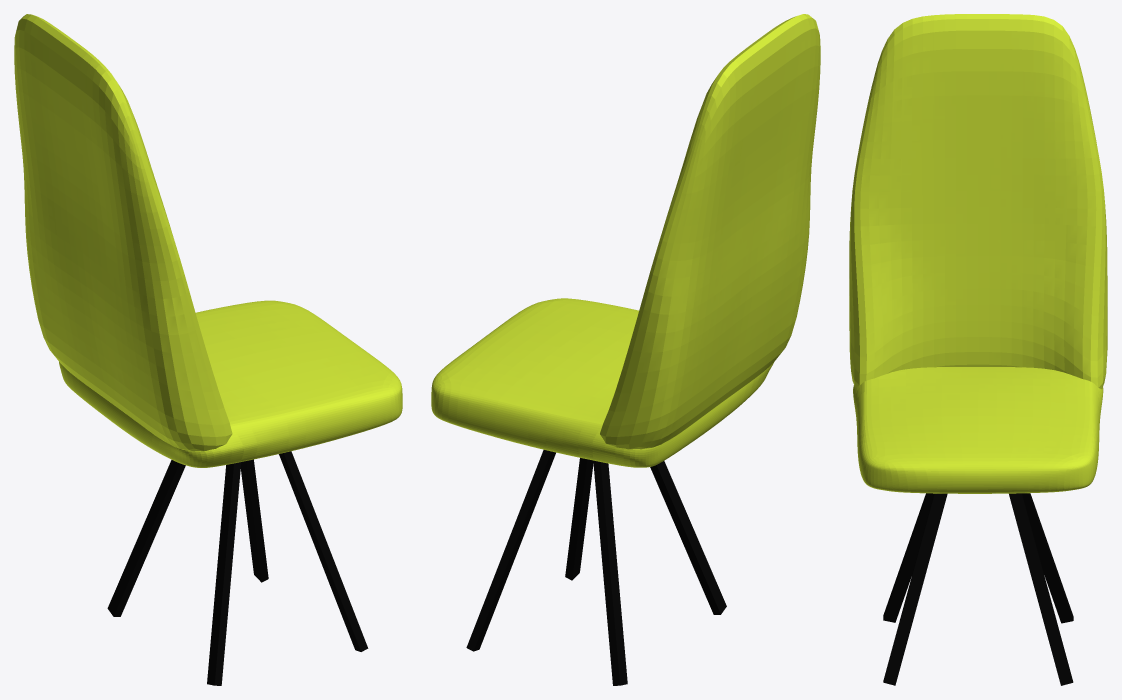
The model's file is chair5.glb.
The picture shows the model from 3 angles, left to right: view 1: azimuth 30°, elevation 25°; view 2: azimuth 150°, elevation 25°; view 3: azimuth 270°, elevation 25°; orthographic projection. The views are drawn at different scales.
Parts seen in each view (by area): view 1: Cube_1_2, Cube_2_2, Cube_1, Cube, Cube_3, Cube_2; view 2: Cube_1_2, Cube_2_2, Cube_3, Cube_2, Cube_1, Cube; view 3: Cube_1_2, Cube_2_2, Cube, Cube_2, Cube_3, Cube_1.
Boxes of the visible parts, left/top/right/bottom form: Cube_1_2: left=14, top=14, right=232, bottom=451; Cube_2_2: left=59, top=300, right=402, bottom=467; Cube_1: left=207, top=462, right=241, bottom=685; Cube: left=279, top=451, right=368, bottom=651; Cube_3: left=107, top=460, right=185, bottom=616; Cube_2: left=240, top=459, right=268, bottom=582; Cube_1_2: left=600, top=14, right=820, bottom=449; Cube_2_2: left=431, top=298, right=773, bottom=467; Cube_3: left=593, top=460, right=627, bottom=685; Cube_2: left=466, top=450, right=555, bottom=651; Cube_1: left=650, top=461, right=726, bottom=614; Cube: left=565, top=458, right=593, bottom=580; Cube_1_2: left=849, top=14, right=1107, bottom=389; Cube_2_2: left=853, top=367, right=1103, bottom=493; Cube: left=883, top=493, right=947, bottom=685; Cube_2: left=1009, top=493, right=1073, bottom=685; Cube_3: left=1022, top=493, right=1073, bottom=623; Cube_1: left=883, top=493, right=933, bottom=622.
Bounding box in the file's own units: 0.482 × 0.9929 × 0.4106.
